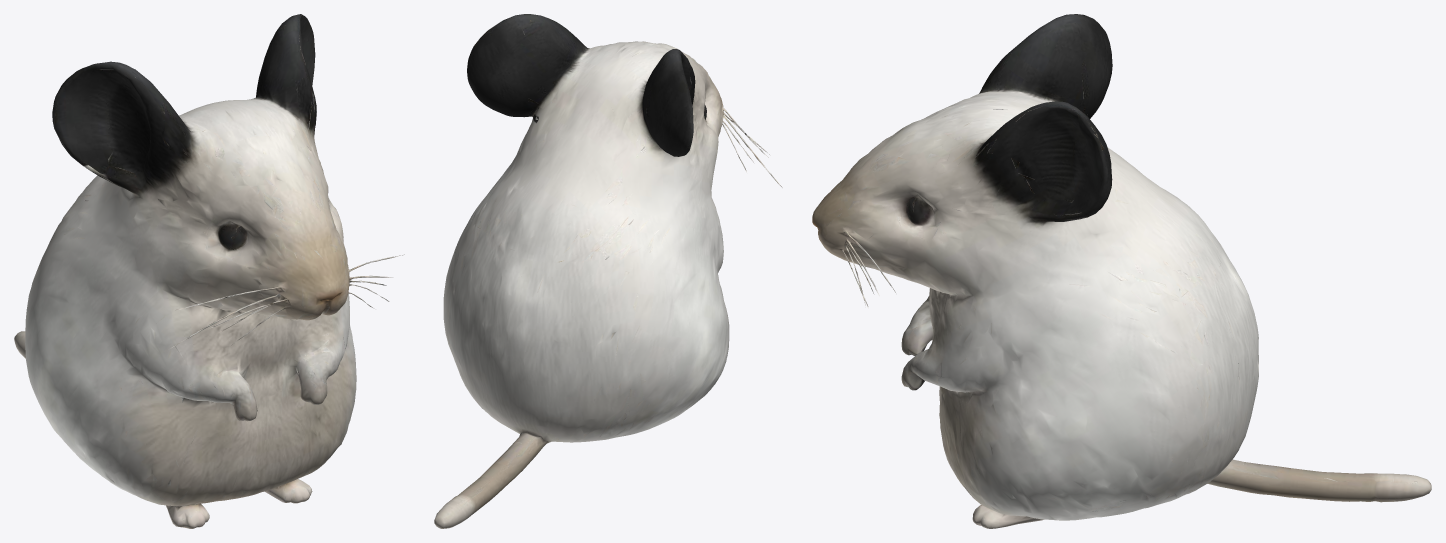
File: chinchilla-white-pied.glb
3 views of the same model, side by side, from view 1: azimuth 30°, elevation 25°; view 2: azimuth 150°, elevation 25°; view 3: azimuth 270°, elevation 25° (orthographic). The views are drawn at different scales.
Visible parts, largest first — view 1: Mesh_0; view 2: Mesh_0; view 3: Mesh_0.
Part boxes in pixels (<box>): Mesh_0: <box>14,14,404,528</box>; Mesh_0: <box>434,14,782,528</box>; Mesh_0: <box>812,14,1431,528</box>.
Size of the model in its own units: 0.9917 by 1.49 by 1.9.
Materials: 1 (1 with a texture image).
